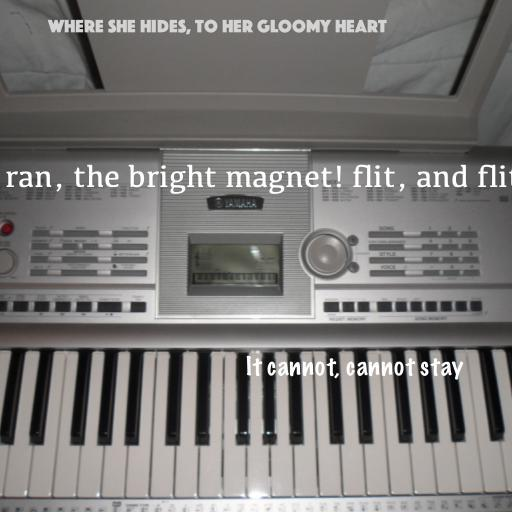Kefa: (0, 164, 512, 194)
Marker Felt: (245, 355, 463, 380)
Phosphate: (47, 19, 387, 35)
